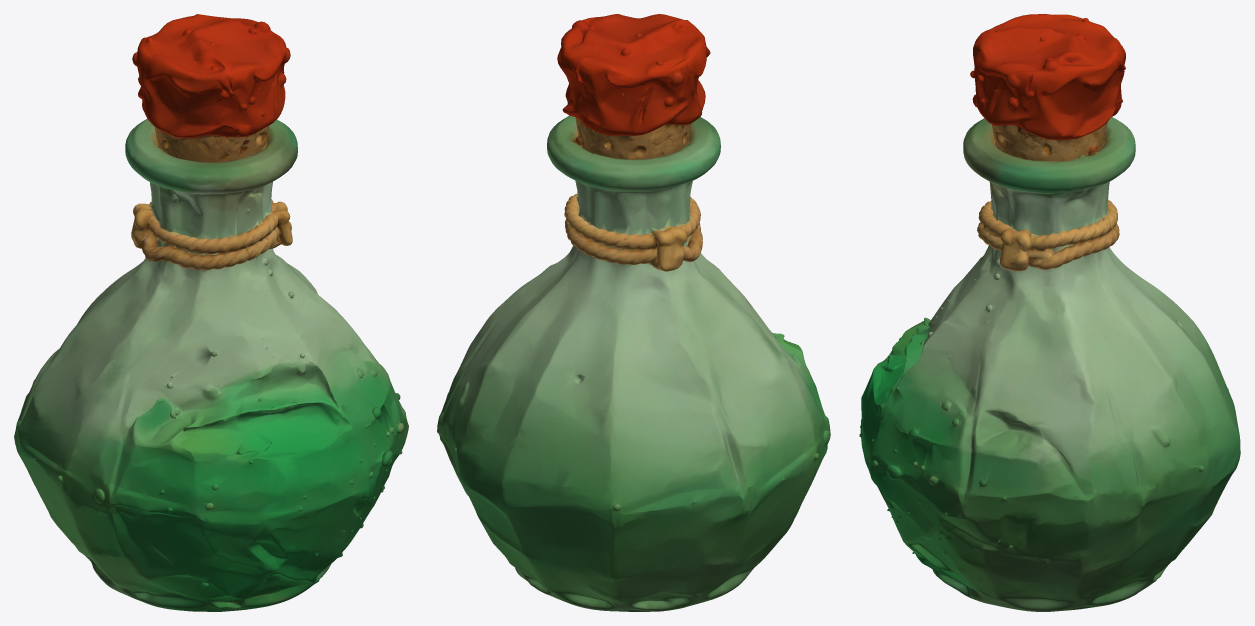
Rendered from potion.glb.
3 renders of one model, left to right at view 1: azimuth 30°, elevation 25°; view 2: azimuth 150°, elevation 25°; view 3: azimuth 270°, elevation 25°, orthographic.
Visible parts, largest first — view 1: tripo_node_9a2019fc-3ce8-4659-98a3-cc0f2ee72b08; view 2: tripo_node_9a2019fc-3ce8-4659-98a3-cc0f2ee72b08; view 3: tripo_node_9a2019fc-3ce8-4659-98a3-cc0f2ee72b08.
Part boxes in pixels (x1,y1,x2,y2): tripo_node_9a2019fc-3ce8-4659-98a3-cc0f2ee72b08: [14, 14, 408, 611]; tripo_node_9a2019fc-3ce8-4659-98a3-cc0f2ee72b08: [437, 14, 830, 611]; tripo_node_9a2019fc-3ce8-4659-98a3-cc0f2ee72b08: [859, 14, 1240, 611].
Bounding box in the file's own units: 0.6459 × 0.9776 × 0.6371.
1 material, 1 textured.
